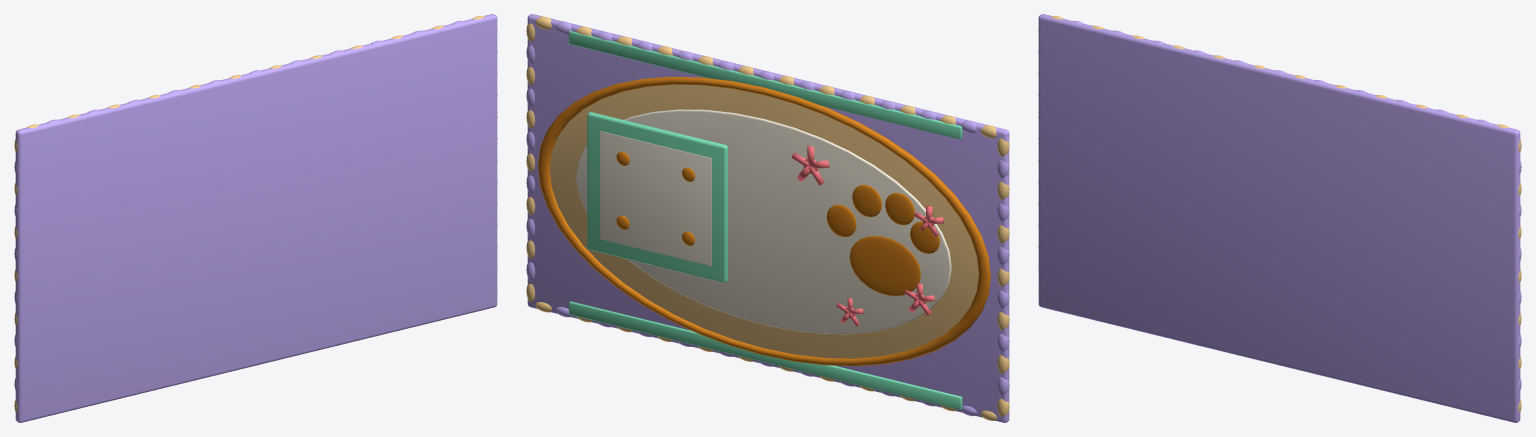
File: BedroomPawRug_Premium.fbx
3 views of the same model, side by side, from view 1: azimuth 30°, elevation 25°; view 2: azimuth 150°, elevation 25°; view 3: azimuth 330°, elevation 25° (orthographic).
Parts seen in each view (by area): view 1: BedroomPawRug; view 2: BedroomPawRug; view 3: BedroomPawRug.
Boxes of the visible parts, x1,y1,x2,y2 form: BedroomPawRug: [14, 14, 497, 422]; BedroomPawRug: [526, 14, 1009, 422]; BedroomPawRug: [1038, 14, 1521, 422].
Size of the model in its own units: 2.21 by 1.29 by 0.09.
